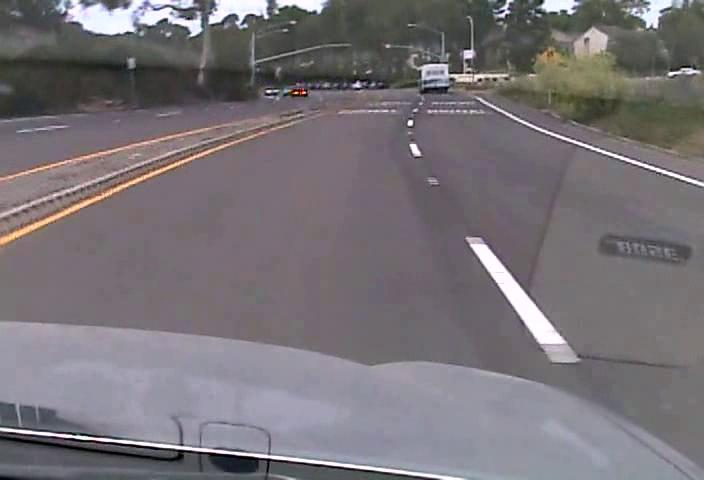signalAhead: (536, 45, 565, 71)
